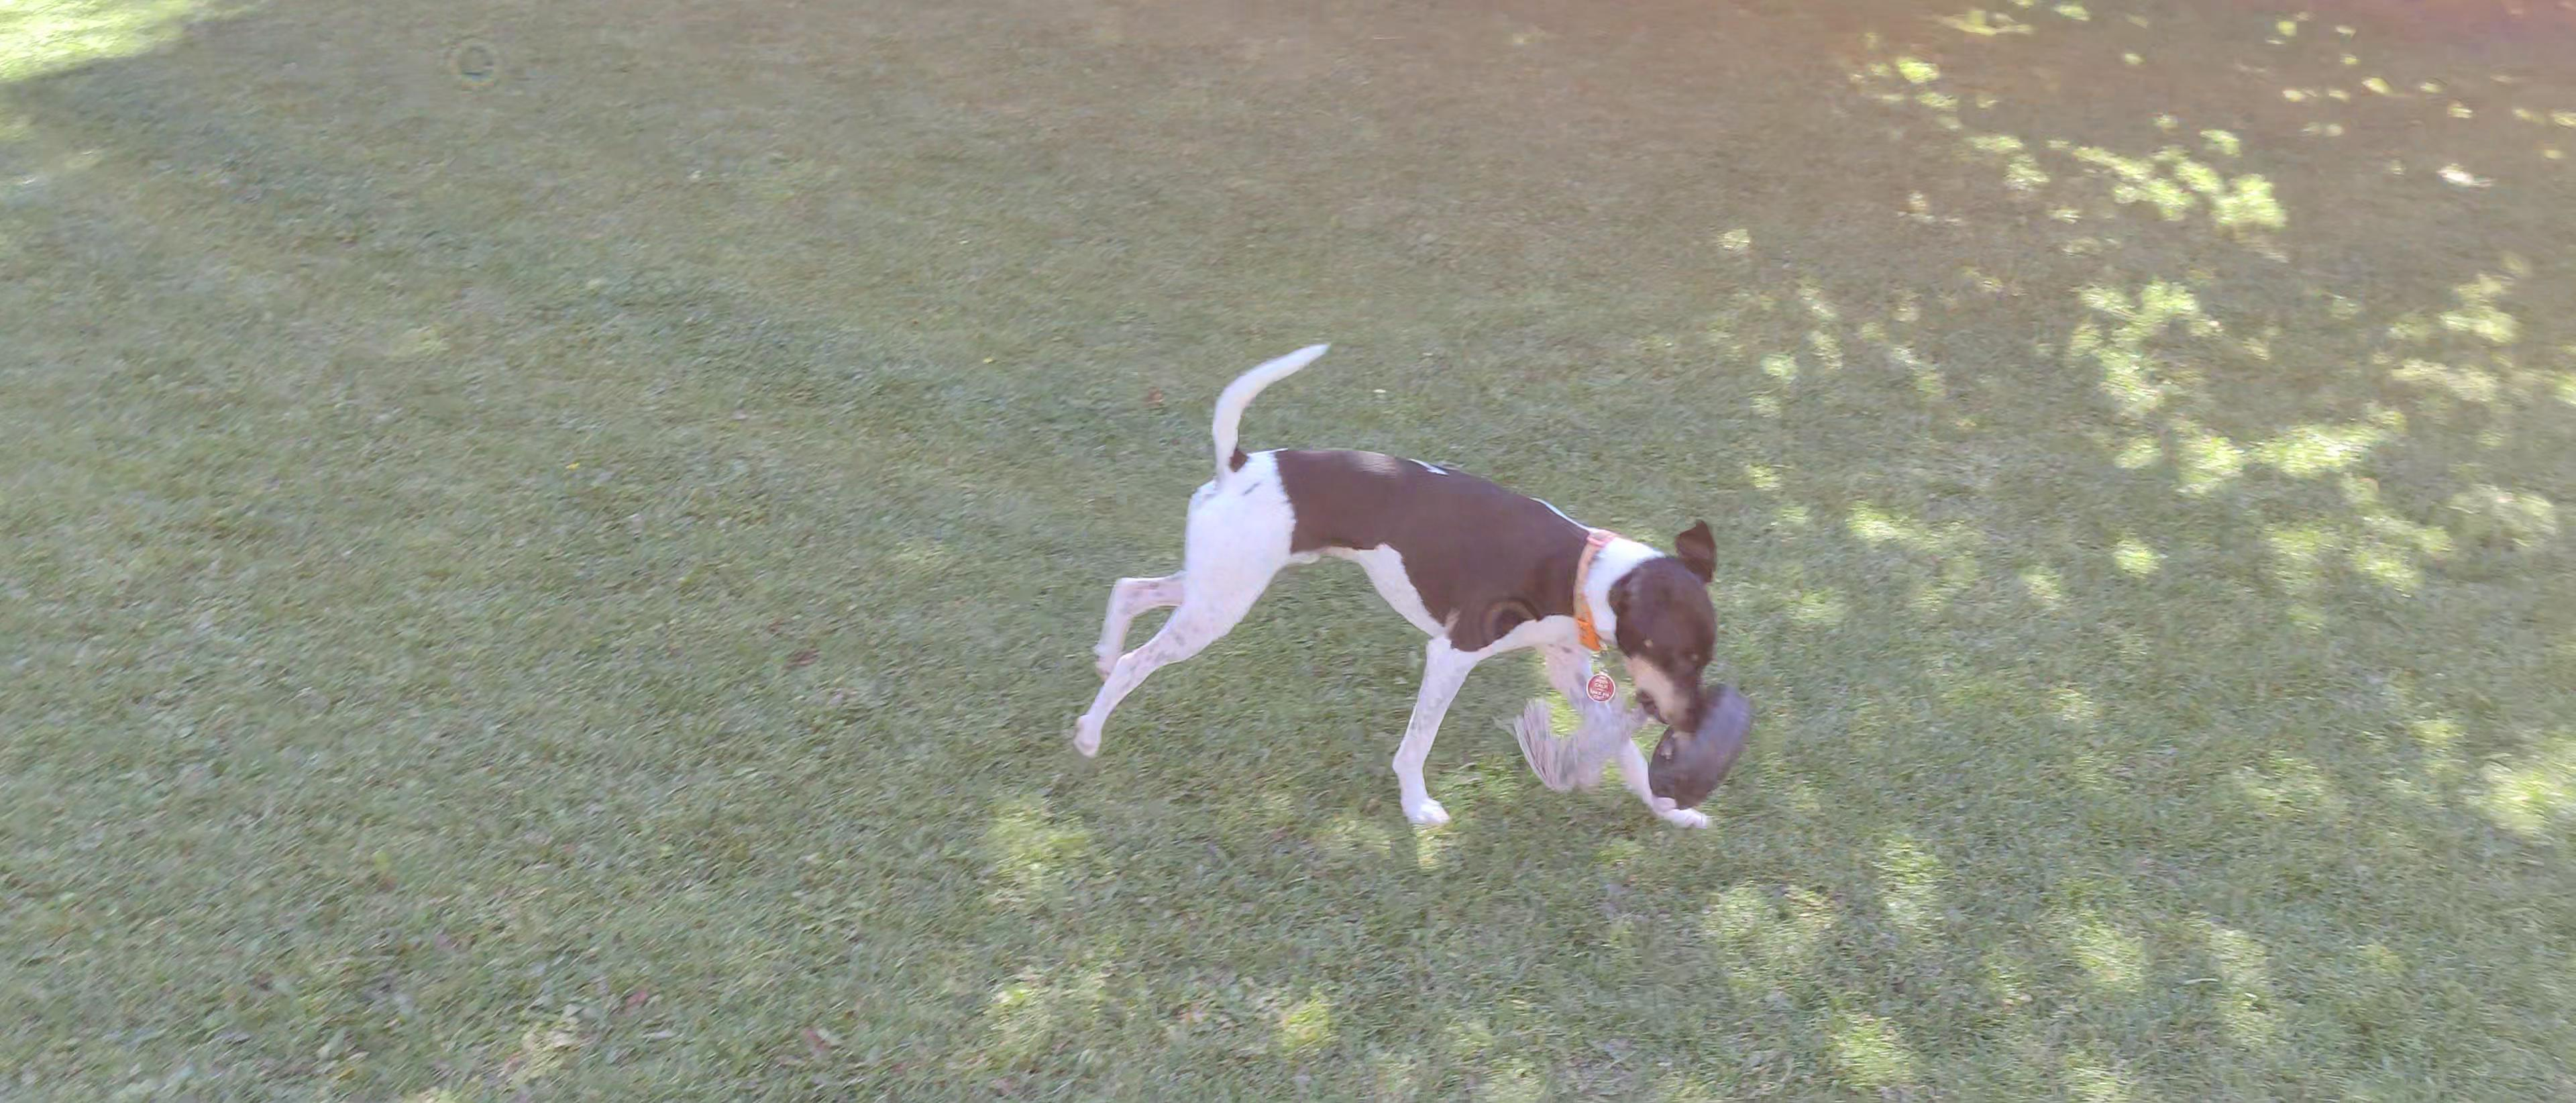Dog: (1055, 324, 1750, 840)
